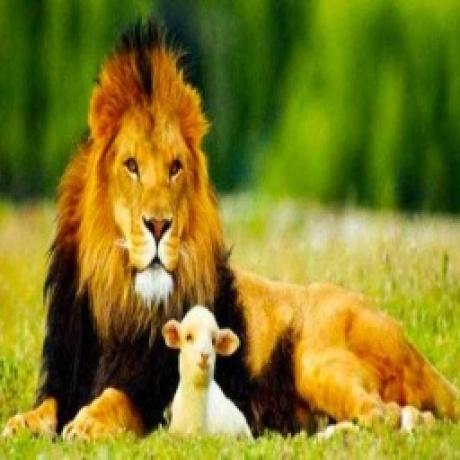Lion: (0, 22, 460, 440)
